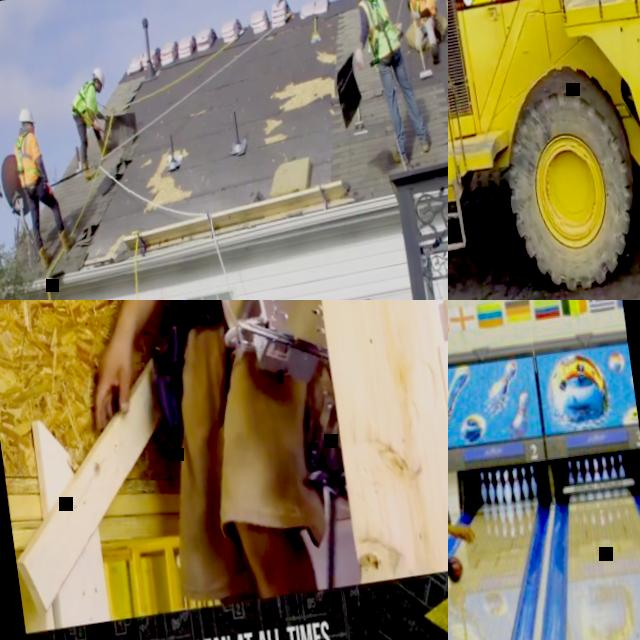Hardhat: (18, 108, 36, 125), (93, 68, 107, 89)
NO-Mask: (26, 123, 35, 134), (95, 81, 102, 94)
Person: (43, 300, 388, 612), (341, 0, 433, 169), (448, 466, 525, 640), (8, 103, 80, 271), (66, 66, 119, 183), (403, 0, 444, 68)
Safety Vest: (356, 0, 402, 57), (13, 131, 43, 186), (71, 79, 101, 129), (412, 0, 434, 21)
vehicle: (448, 0, 640, 300)
